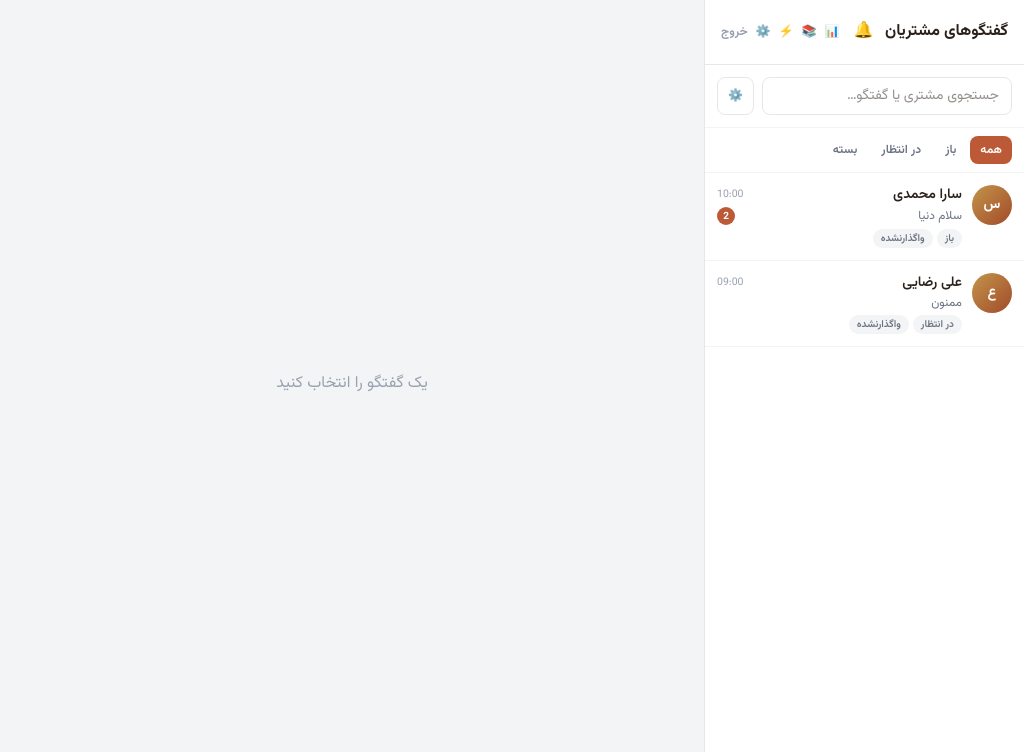
Scenario: Operator dashboard — customer conversations page › Knowledge Base + Macro composer integration › shows partial-failure detail after a macro execution with a failed action
Click the text "سارا محمدی".
click(928, 195)  # box [893,185,962,205]
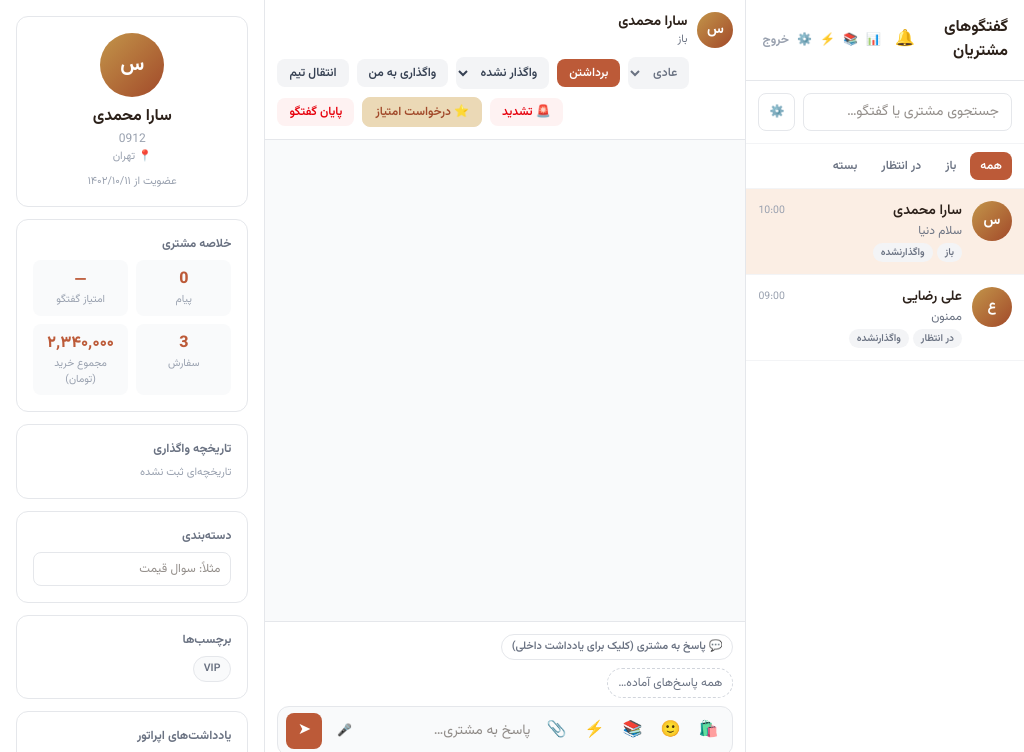
Click the button titled "اجرای ماکرو".
click(594, 731)  # box [578,715,610,747]
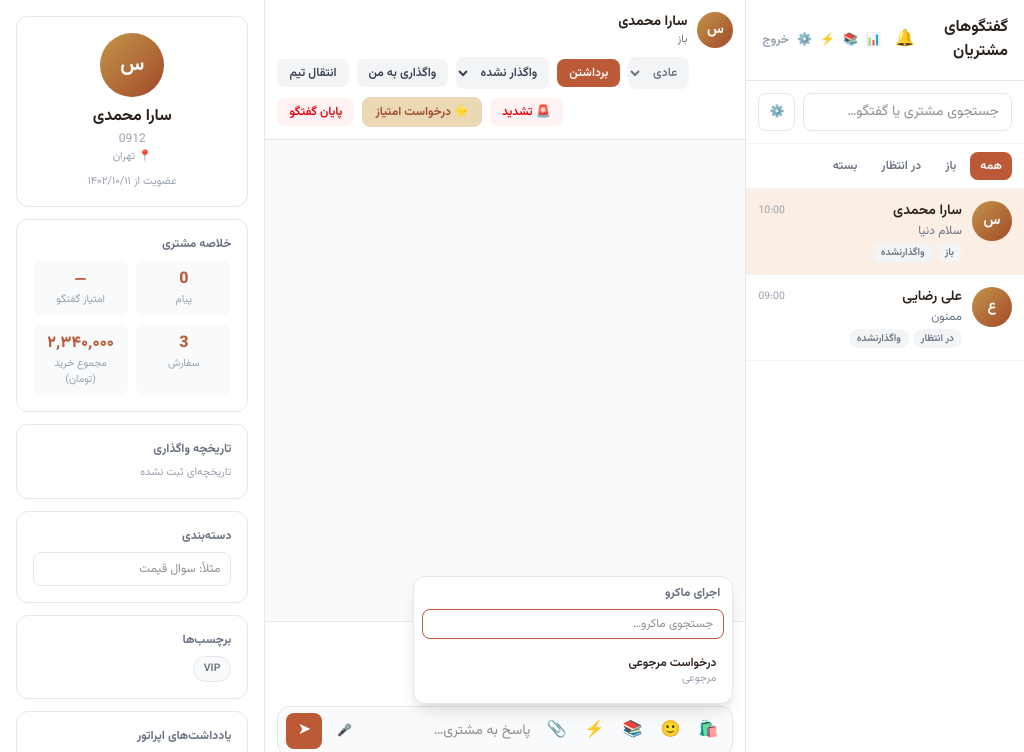
Click the text "درخواست مرجوعی".
click(672, 662)  # box [629,654,716,672]
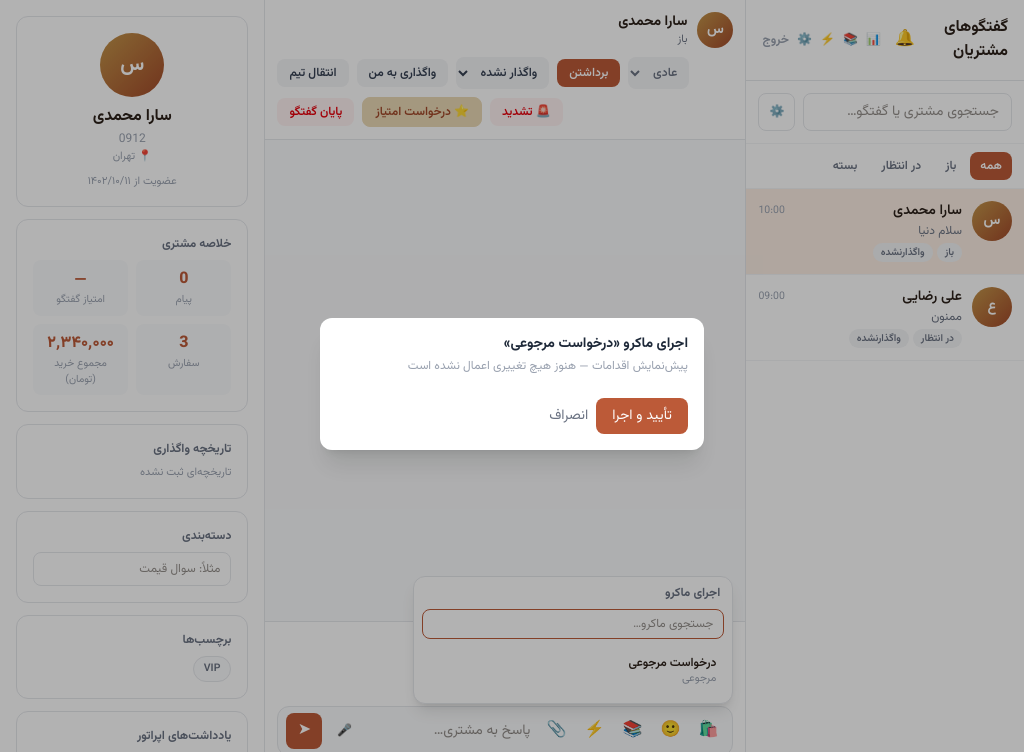
Click the button "تأیید و اجرا".
click(642, 416)  # box [596,398,688,434]
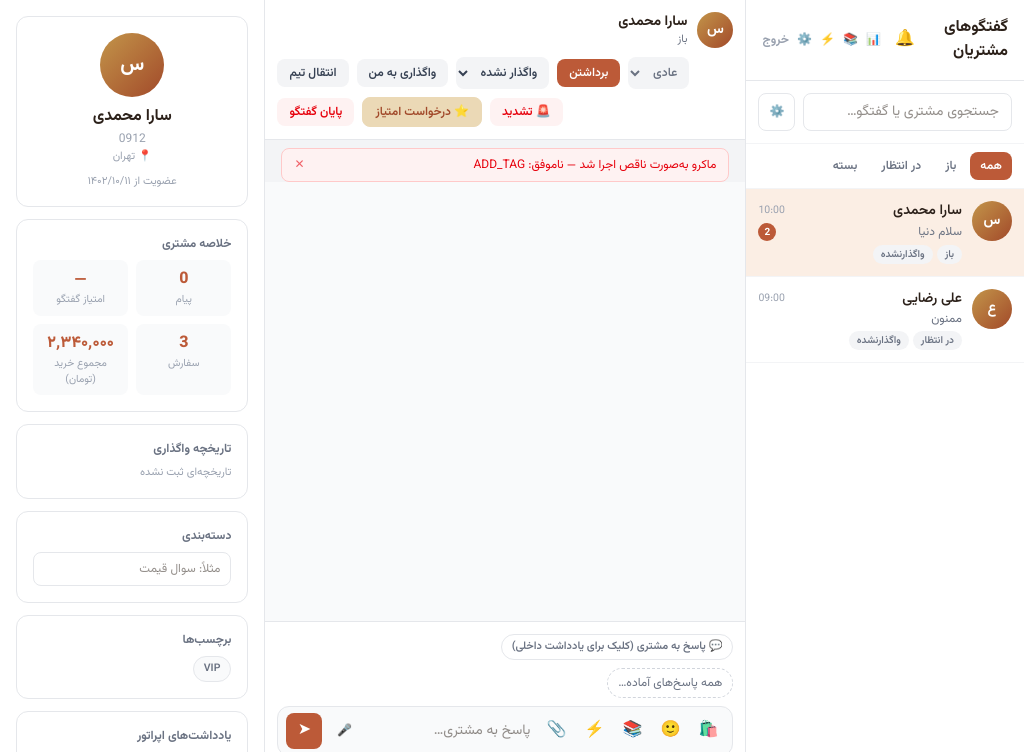
Expected: the text "ماکرو به‌صورت ناقص اجرا شد — ناموفق: ADD_TAG" is shown, [474,156,716,172]
